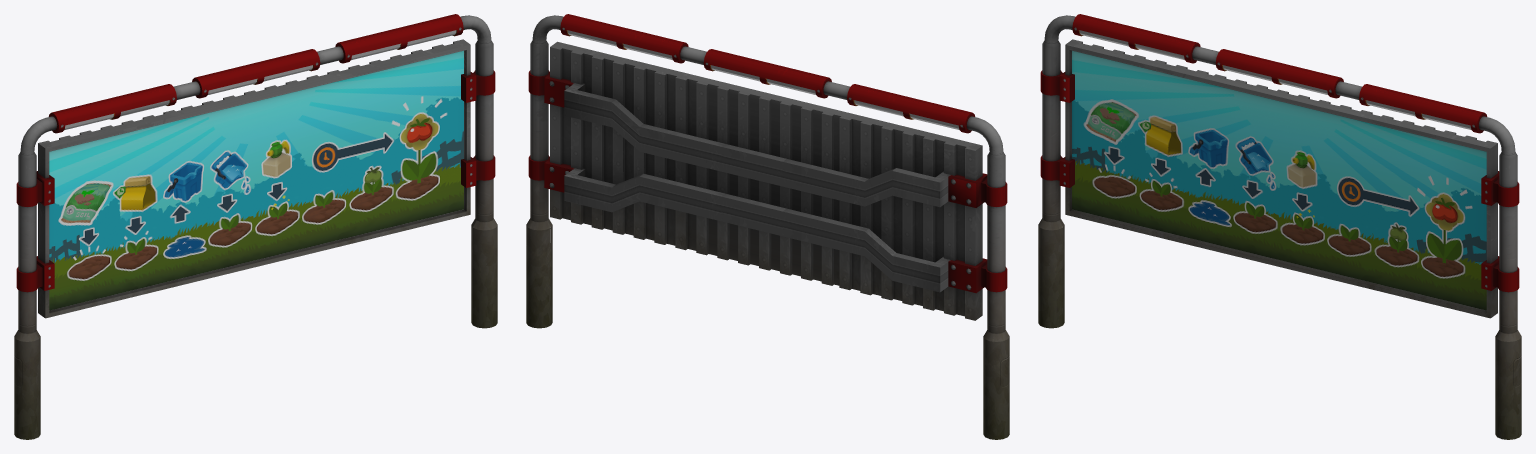
Rendered from env_survivalobjects_farmingbillboard_lod0.fbx.
3 renders of one model, left to right at view 1: azimuth 30°, elevation 25°; view 2: azimuth 150°, elevation 25°; view 3: azimuth 330°, elevation 25°, orthographic.
Parts seen in each view (by area): view 1: env_survivalobjects_farmingbillboard_lod0; view 2: env_survivalobjects_farmingbillboard_lod0; view 3: env_survivalobjects_farmingbillboard_lod0.
Part boxes in pixels (x1=…): env_survivalobjects_farmingbillboard_lod0: x1=14, y1=14, x2=497, y2=439; env_survivalobjects_farmingbillboard_lod0: x1=526, y1=14, x2=1009, y2=439; env_survivalobjects_farmingbillboard_lod0: x1=1038, y1=14, x2=1521, y2=439.
Bounding box in the file's own units: 67.06 × 42 × 5.41.
